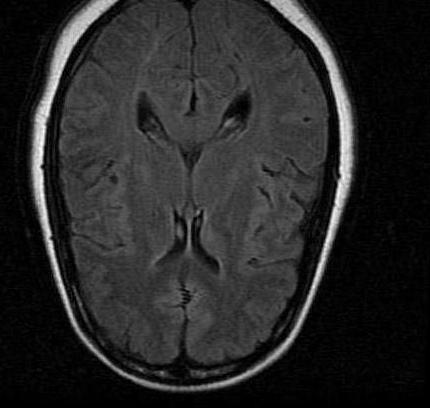Normal_Brain: (1, 1, 430, 408)
